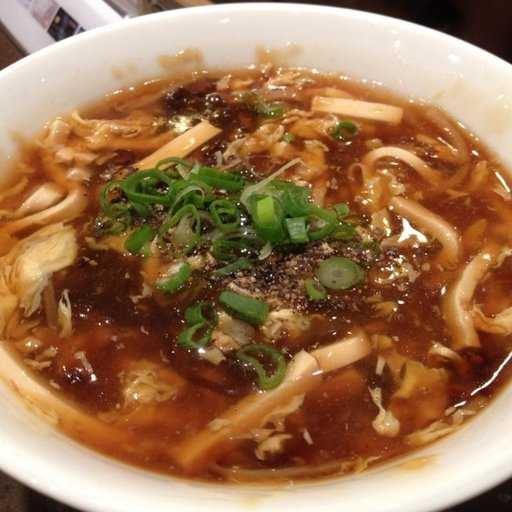soup: (3, 50, 509, 487)
